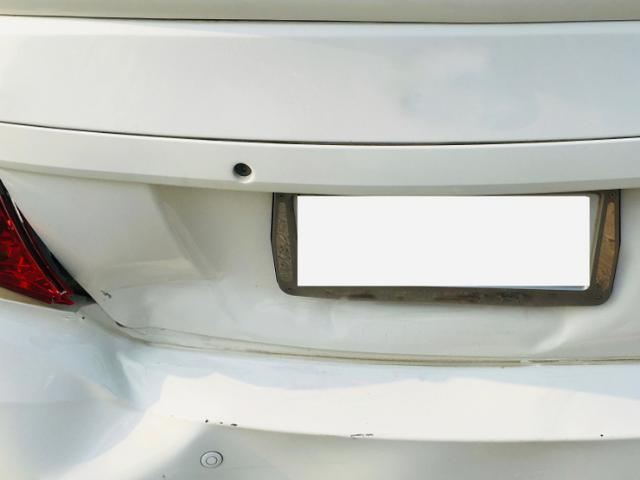Bumper: (45, 318, 205, 480)
